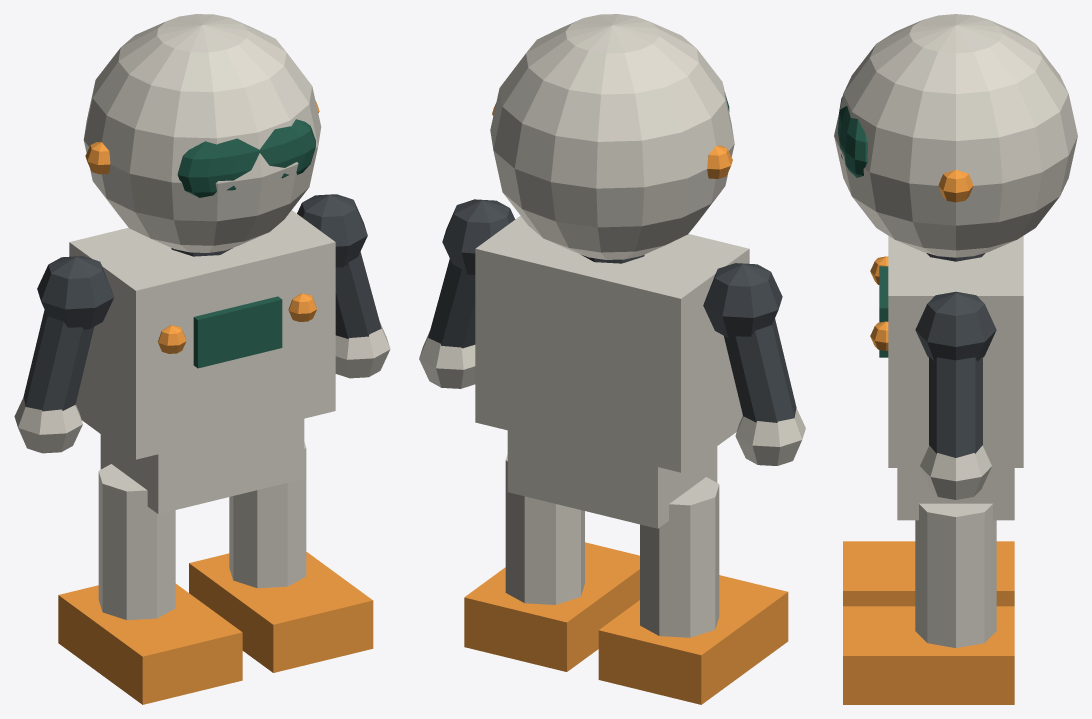
The model's file is probe_character.glb.
The picture shows the model from 3 angles, left to right: view 1: azimuth 30°, elevation 25°; view 2: azimuth 150°, elevation 25°; view 3: azimuth 270°, elevation 25°; orthographic projection. The views are drawn at different scales.
Visible parts, largest first — view 1: ProbeBot; view 2: ProbeBot; view 3: ProbeBot.
Boxes of the visible parts, box(x1,y1,x2,y2) form: ProbeBot: box(14, 14, 390, 704); ProbeBot: box(419, 14, 805, 704); ProbeBot: box(834, 14, 1077, 704).
Size of the model in its own units: 0.96 by 1.52 by 0.54.
